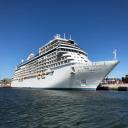cruises: (12, 32, 123, 94)
